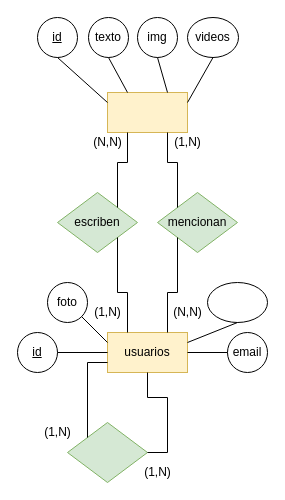
The diagram is 285 pixels wide and 500 high, and some of its shapes have lost their labels. Each missing label, with the box of its shape:
mensajes: (106, 92, 188, 132)
nombre: (206, 282, 268, 322)
siguen: (66, 422, 148, 482)
